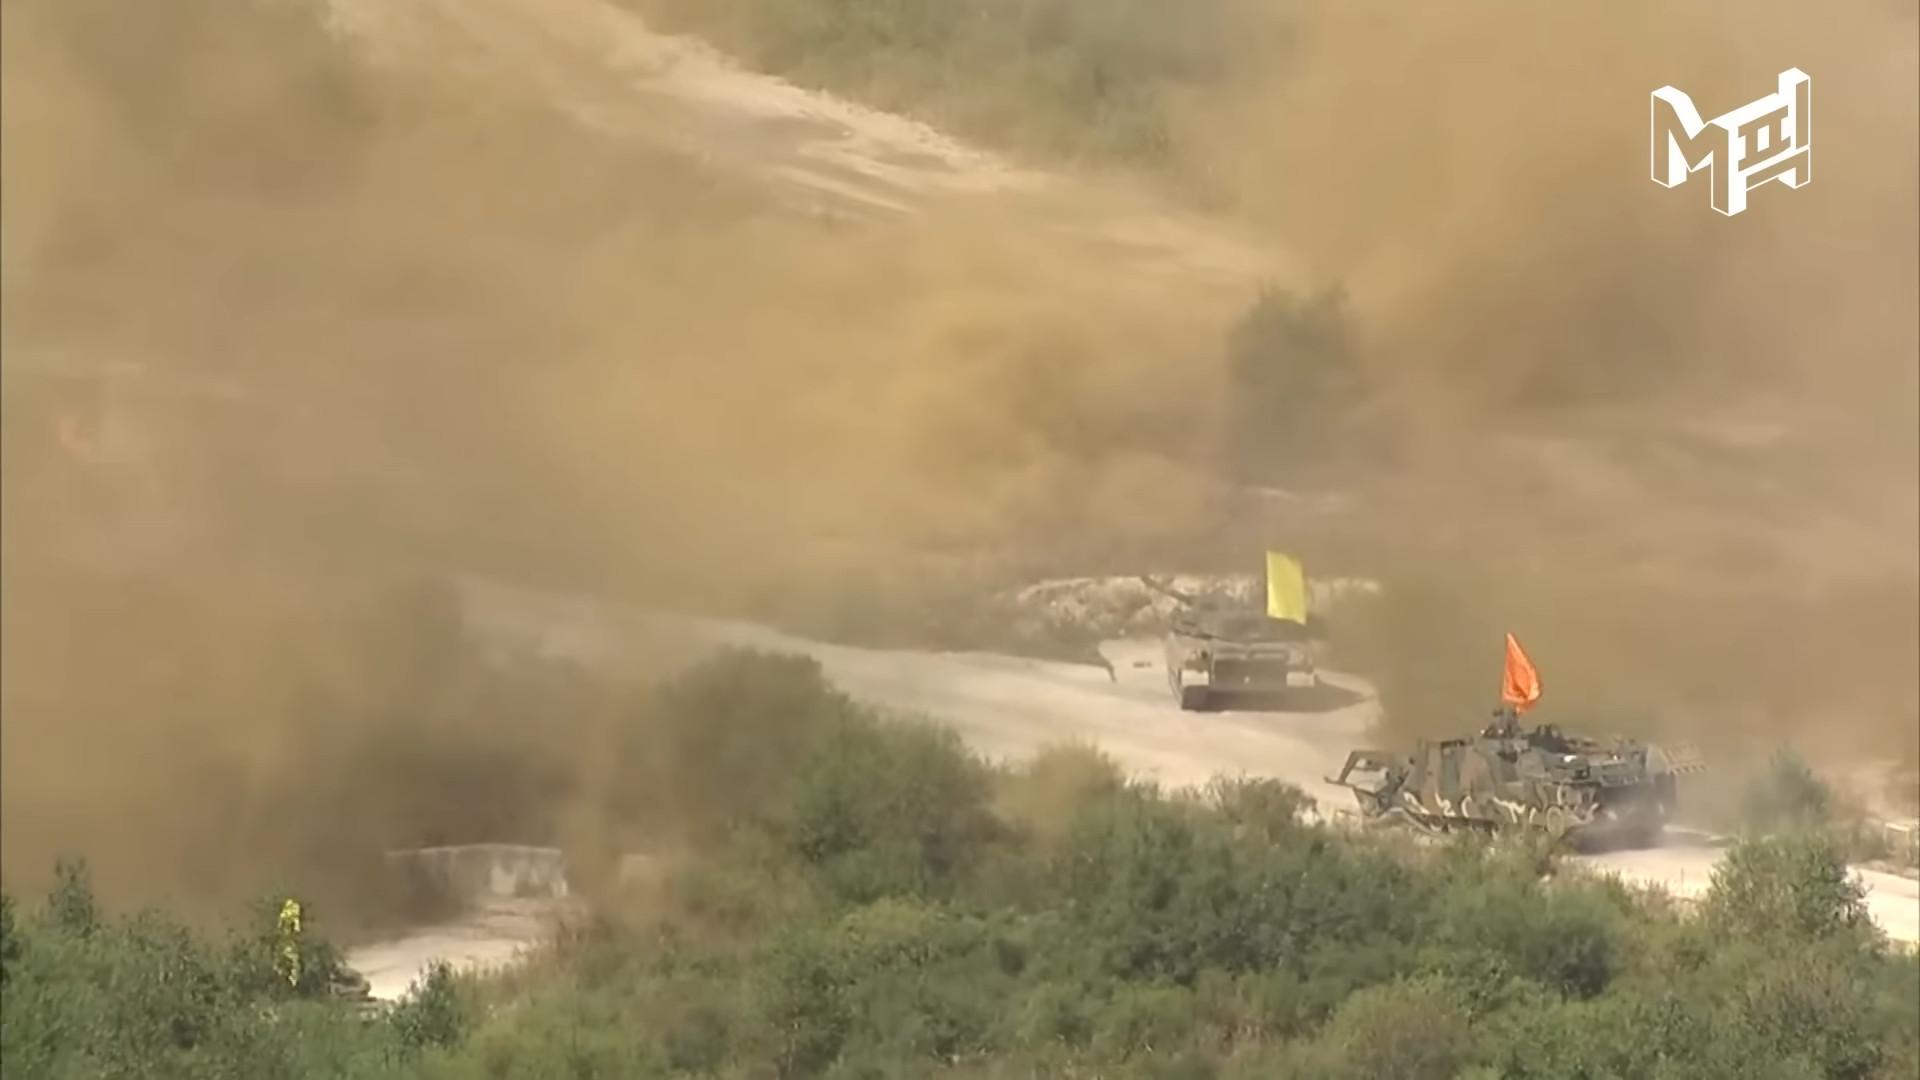tank: (1324, 705, 1675, 853), (1141, 576, 1315, 711)
